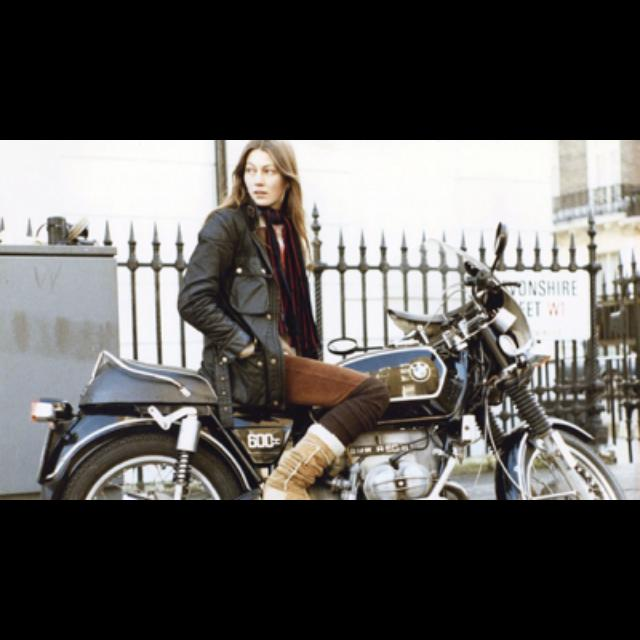Without Helmet: (232, 140, 300, 214)
